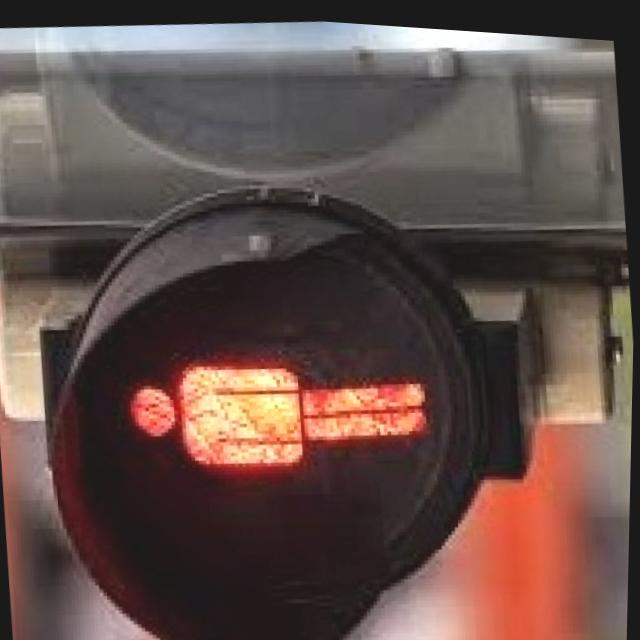red_light: (91, 293, 455, 528)
